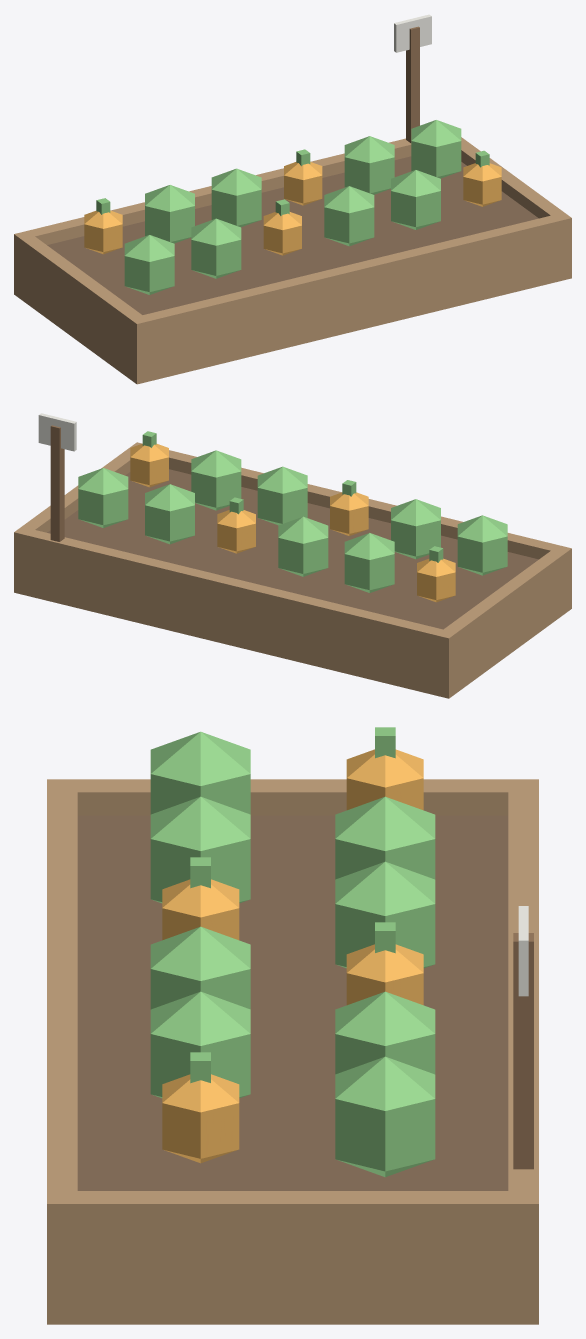
File: garden_plot.glb
3 views of the same model, one above another, from view 1: azimuth 30°, elevation 25°; view 2: azimuth 150°, elevation 25°; view 3: azimuth 270°, elevation 25° (orthographic). The views are drawn at different scales.
Parts seen in each view (by area): view 1: garden_plot; view 2: garden_plot; view 3: garden_plot.
Boxes of the visible parts, x1,y1,x2,y2 form: garden_plot: [14, 14, 571, 384]; garden_plot: [14, 413, 571, 698]; garden_plot: [47, 727, 538, 1324].
Bounding box in the file's own units: 1.96 × 0.78 × 0.96.
